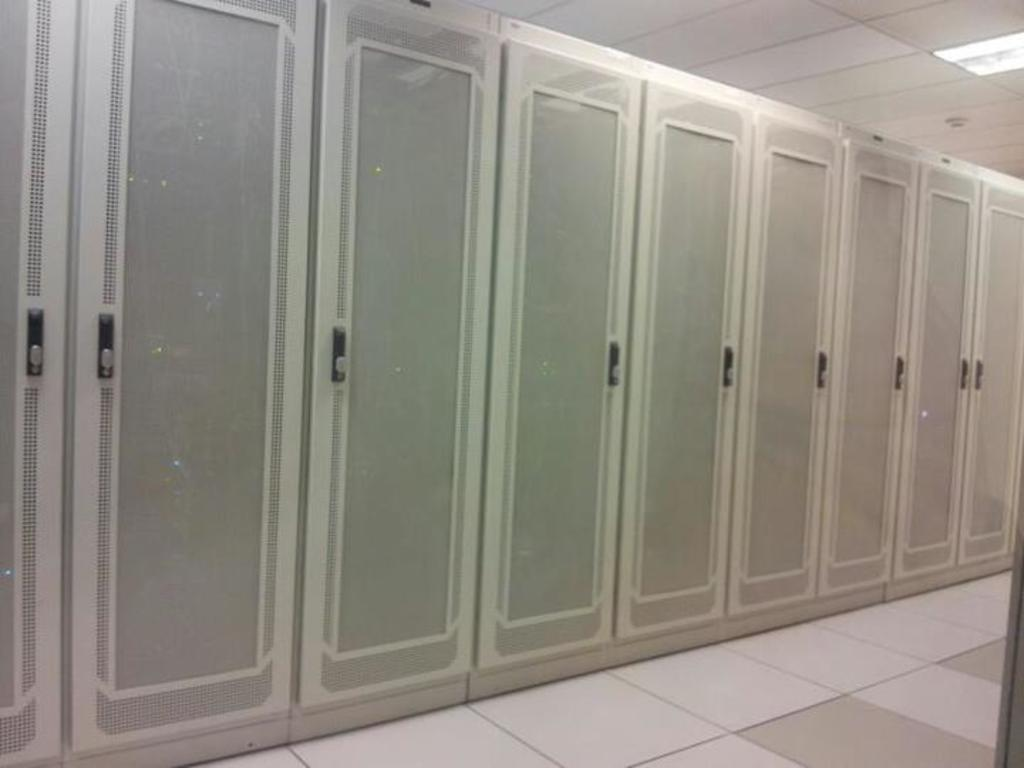door: (96, 20, 294, 698), (322, 30, 466, 656), (495, 68, 617, 622), (632, 108, 738, 593), (4, 13, 61, 736), (739, 145, 824, 586), (840, 162, 902, 587), (966, 196, 1024, 545), (918, 182, 968, 564)
handle: (324, 328, 354, 390), (95, 310, 119, 380), (600, 332, 626, 392), (712, 344, 740, 395), (24, 304, 45, 368), (808, 351, 830, 394), (886, 358, 908, 400), (970, 356, 990, 397), (956, 356, 972, 394)
